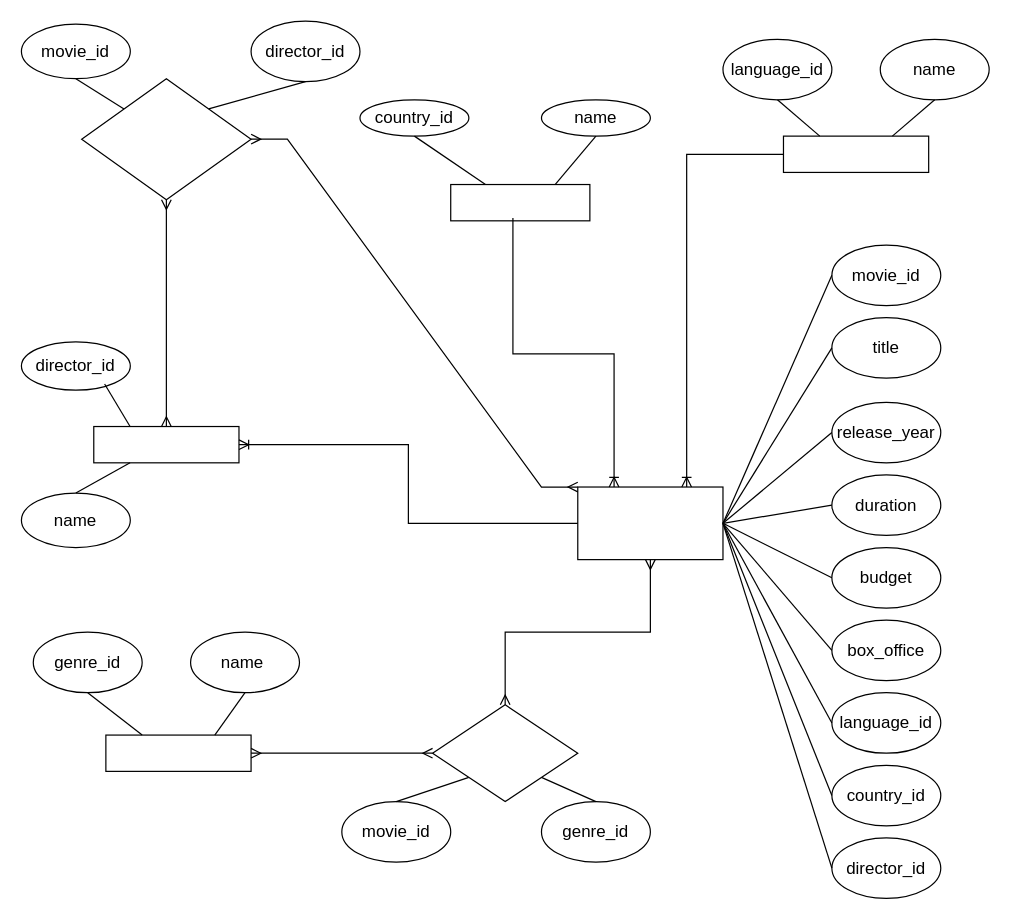
The diagram is 1010 pixels wide and 920 high, and some of its shapes have lost their labels. Each missing label, with the centre of its shape:
"Country" goes at point 520,202.
"Director" goes at point 166,444.
"Genre" goes at point 178,752.
"Language" goes at point 855,153.
"Movie" goes at point 650,523.
"Movie_Director" goes at point 165,138.
"Moviegenre" goes at point 504,753.
